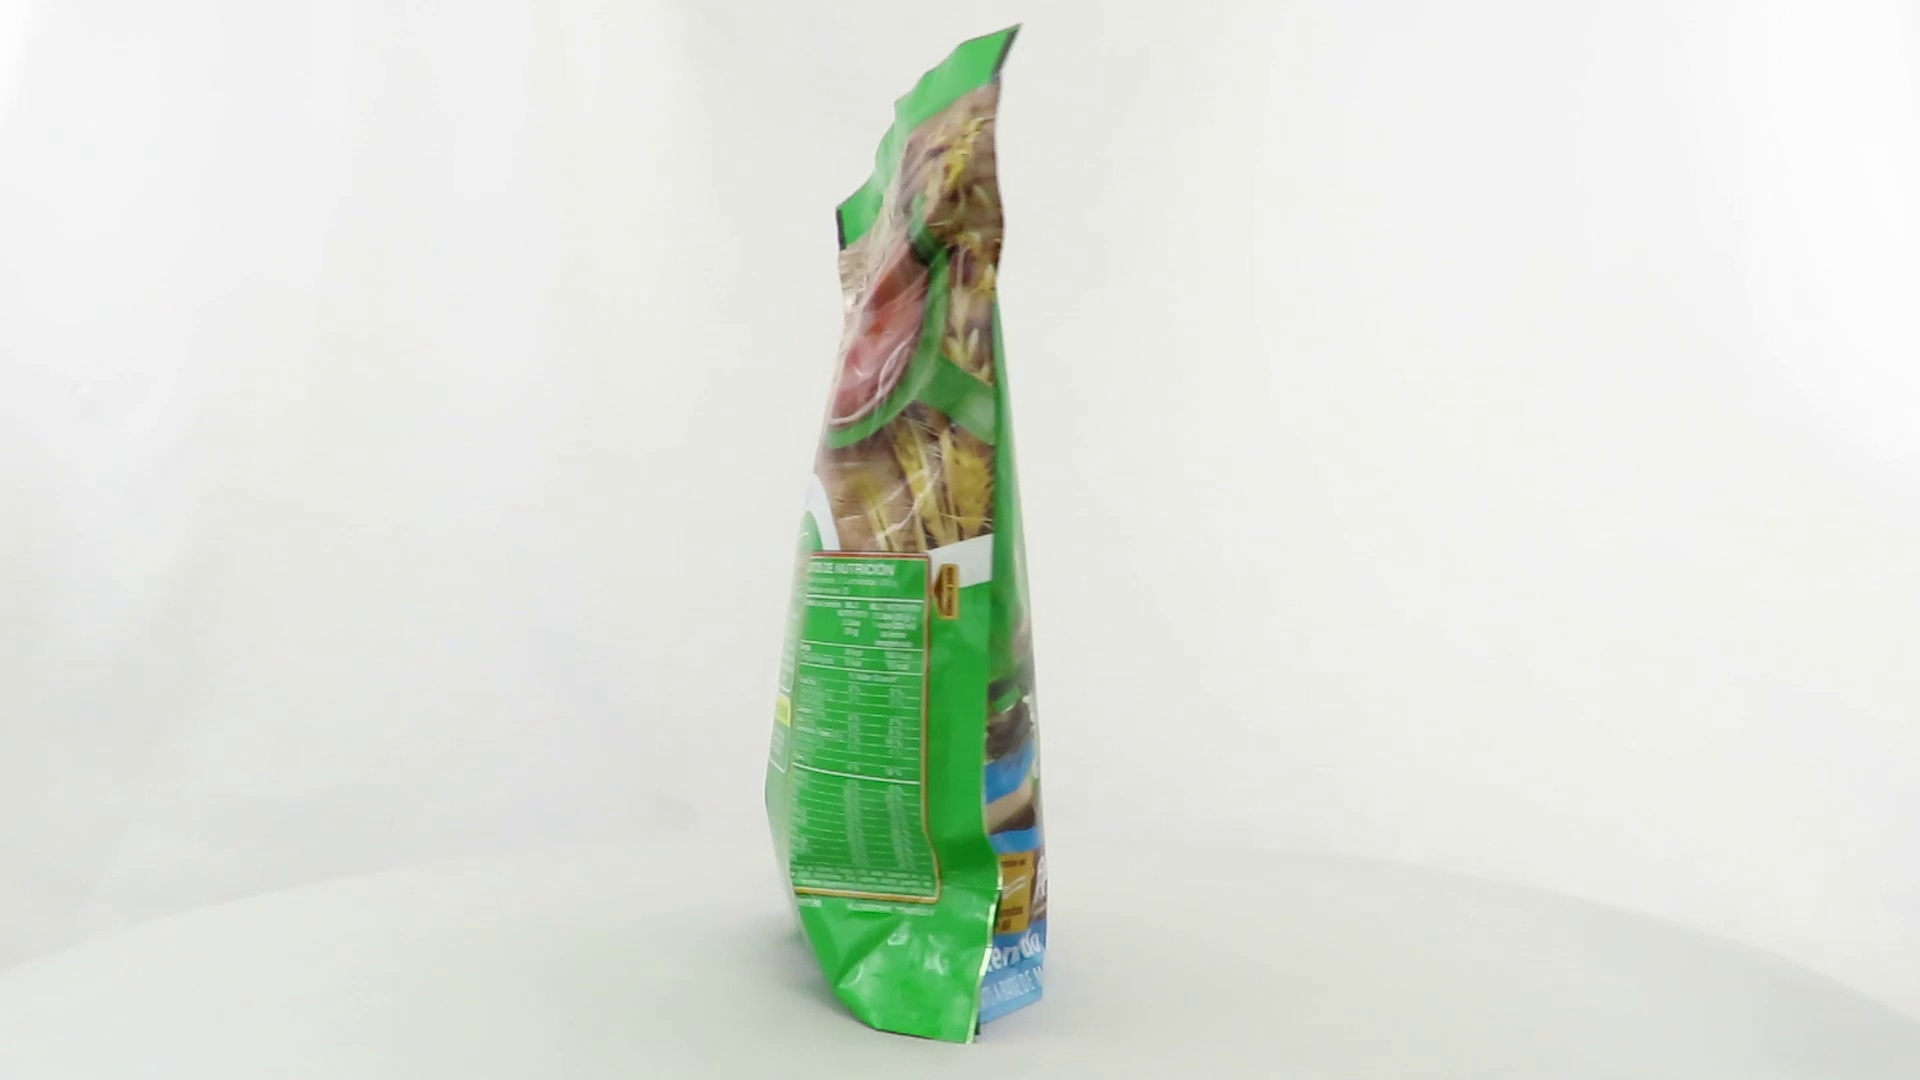COL0170205DYP50000: (760, 18, 1054, 1050)
